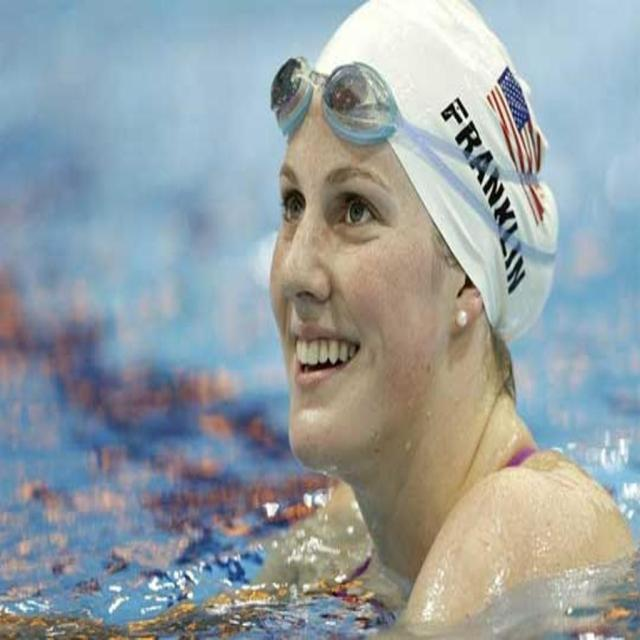Face: (257, 111, 450, 483)
